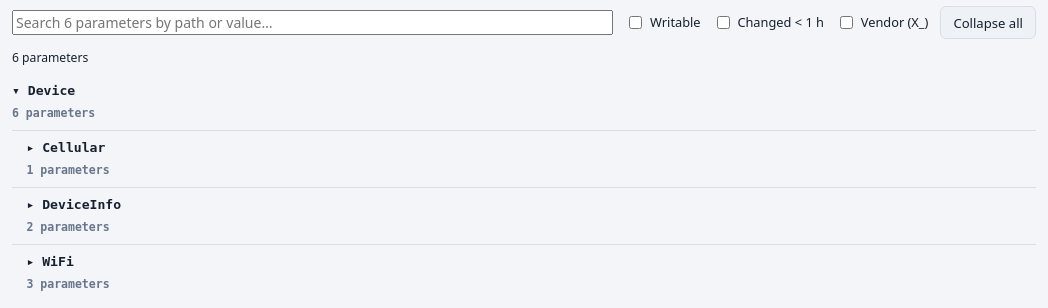
Test: ParameterBrowser › searches path and value as a flat list
In the field named "Search parameters": (313, 23) [12,10,613,35], type "office"
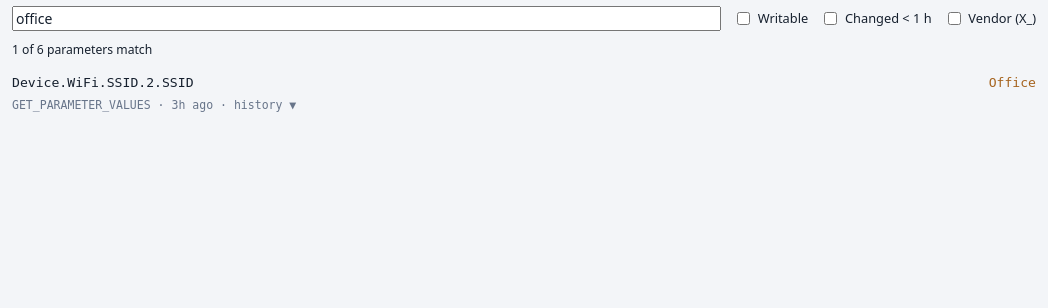
expect the text "1 of 6 parameters match" is shown: met, box [12,41,152,58]
expect the text "Device.WiFi.SSID.2.SSID" is shown: met, box [12,75,194,90]
